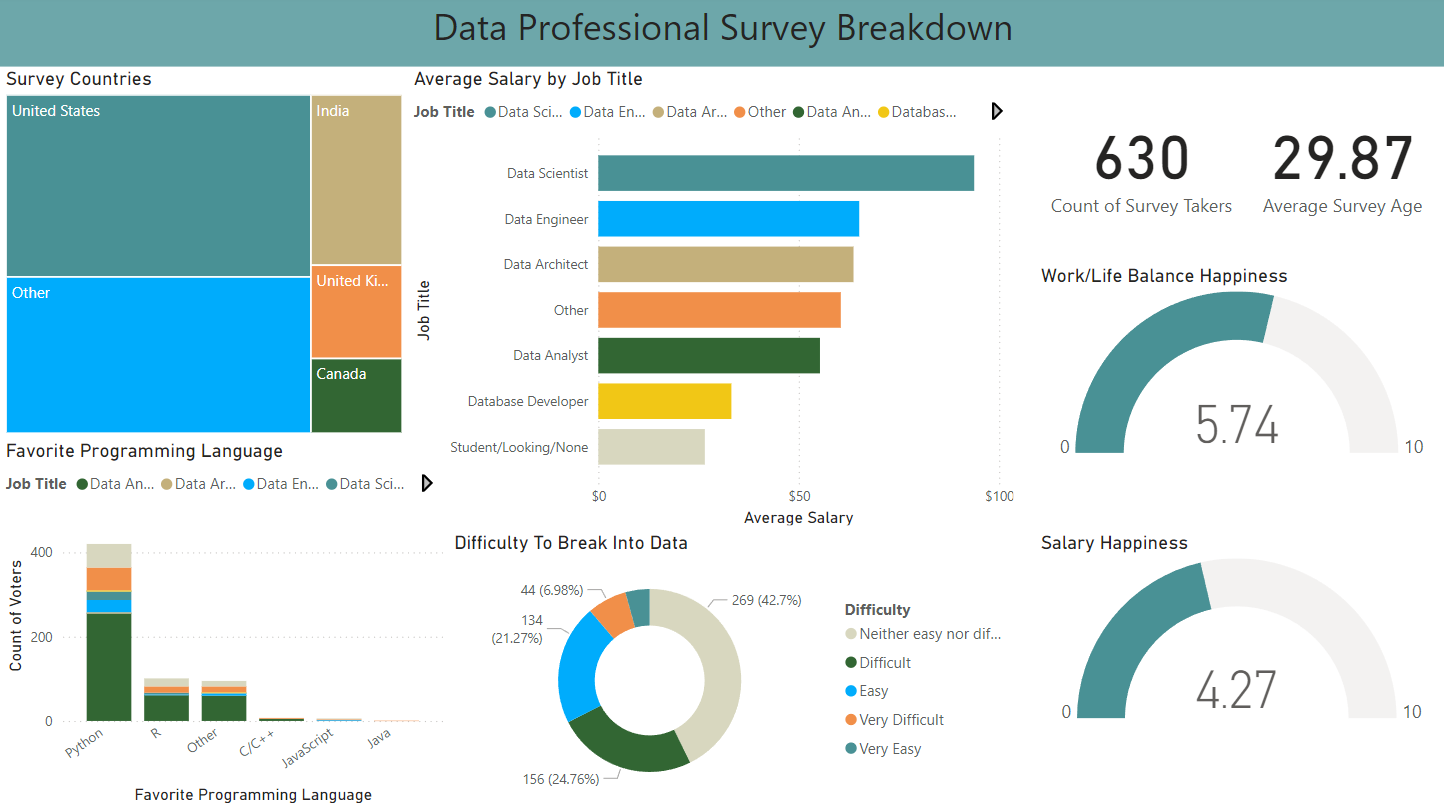

The page's visual inventory and layout, read from the dashboard file:
{"tool":"powerbi","page":{"name":"Page 1","canvas":[1280,720],"ordinal":0},"visuals":[{"type":"textbox","box":[0,0,1279.5,63.6],"z":0},{"type":"card","fields":{"Values":["CountNonNull(Data Professional Survey.Unique ID)"]},"box":[915.6,85.8,187.8,121.1],"z":1000},{"type":"card","fields":{"Values":["Avg(Data Professional Survey.Q10 - Current Age)"]},"box":[1092.7,85.8,187.8,121.1],"z":2000},{"type":"barChart","title":"Average Salary by Job Title","fields":{"Category":["Data Professional Survey.Q1 - Which Title Best Fits your Current Role?.1"],"Y":["Avg(Data Professional Survey.Q3 - Average Salary)"],"Series":["Data Professional Survey.Q1 - Which Title Best Fits your Current Role?.1"]},"box":[360.4,63.6,540.6,410.3],"z":3000},{"type":"columnChart","title":"Favorite Programming Language","fields":{"Category":["Data Professional Survey.Q5 - Favorite Programming Language.1"],"Y":["CountNonNull(Data Professional Survey.Unique ID)"],"Series":["Data Professional Survey.Q1 - Which Title Best Fits your Current Role?.1"]},"box":[0,392.2,396.7,327.1],"z":4000},{"type":"treemap","title":"Survey Countries","fields":{"Group":["Data Professional Survey.Q11 - Which Country do you live in?.1"],"Values":["CountNonNull(Data Professional Survey.Q11 - Which Country do you live in?.1)"]},"box":[0,63.6,360.4,328.6],"z":5000},{"type":"gauge","title":"Work/Life Balance Happiness","fields":{"Y":["Avg(Data Professional Survey.Q6 - How Happy are you in your Current Position with the following? (Work/Life Balance))"],"MinValue":["Min(Data Professional Survey.Q6 - How Happy are you in your Current Position with the following? (Work/Life Balance))1"],"MaxValue":["Max(Data Professional Survey.Q6 - How Happy are you in your Current Position with the following? (Work/Life Balance))2"]},"box":[915.6,237.2,364.9,177.2],"z":6000},{"type":"gauge","title":"Salary Happiness","fields":{"Y":["Avg(Data Professional Survey.Q6 - How Happy are you in your Current Position with the following? (Salary))"],"MinValue":["Min(Data Professional Survey.Q6 - How Happy are you in your Current Position with the following? (Salary))"],"MaxValue":["Max(Data Professional Survey.Q6 - How Happy are you in your Current Position with the following? (Salary))"]},"box":[915.6,473.4,364.9,175.6],"z":7000},{"type":"donutChart","title":"Difficulty To Break Into Data","fields":{"Category":["Data Professional Survey.Q7 - How difficult was it for you to break into Data?"],"Y":["CountNonNull(Data Professional Survey.Q7 - How difficult was it for you to break into Data?)"]},"box":[396.7,473.9,504.2,245.3],"z":7001}]}

Visuals, with their boxes in screenshot pixels (x1, y1, x2, y2), scaled from the page's 1280x720 canvas onto the 1444x805 screenshot:
textbox: BBox(0, 0, 1443, 71)
card - CountNonNull(Data Professional Survey.Unique ID): BBox(1033, 96, 1245, 231)
card - Avg(Data Professional Survey.Q10 - Current Age): BBox(1233, 96, 1443, 231)
"Average Salary by Job Title" barChart: BBox(407, 71, 1016, 530)
"Favorite Programming Language" columnChart: BBox(0, 439, 448, 804)
"Survey Countries" treemap: BBox(0, 71, 407, 439)
"Work/Life Balance Happiness" gauge: BBox(1033, 265, 1443, 463)
"Salary Happiness" gauge: BBox(1033, 529, 1443, 726)
"Difficulty To Break Into Data" donutChart: BBox(448, 530, 1016, 804)
